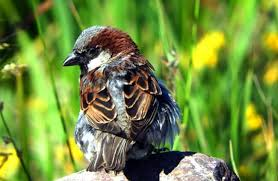hsparrow: (57, 22, 189, 178)
